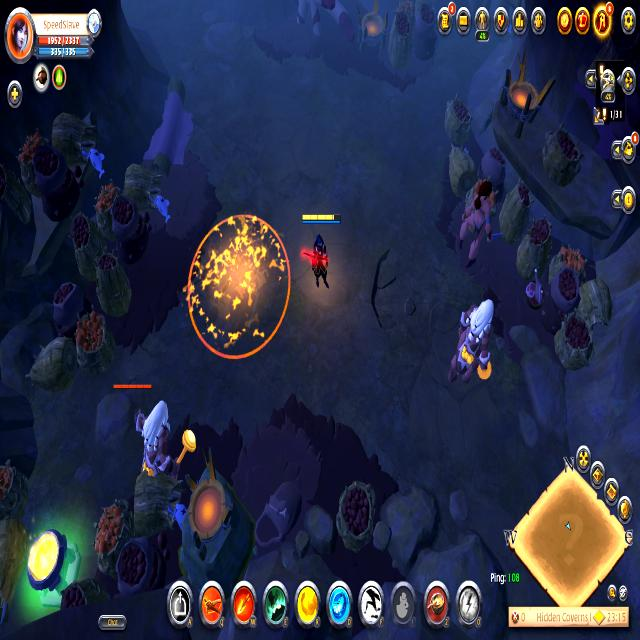fiber: (21, 520, 83, 612)
ore: (110, 378, 198, 496), (444, 292, 503, 398), (452, 170, 503, 274)
red: (298, 202, 348, 296)
silver: (186, 214, 292, 360)
